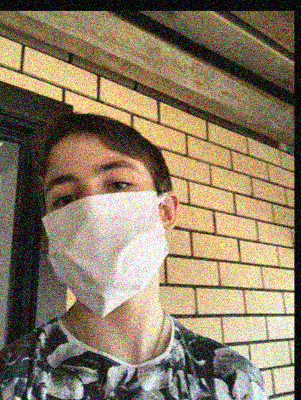with_mask: (41, 154, 170, 317)
